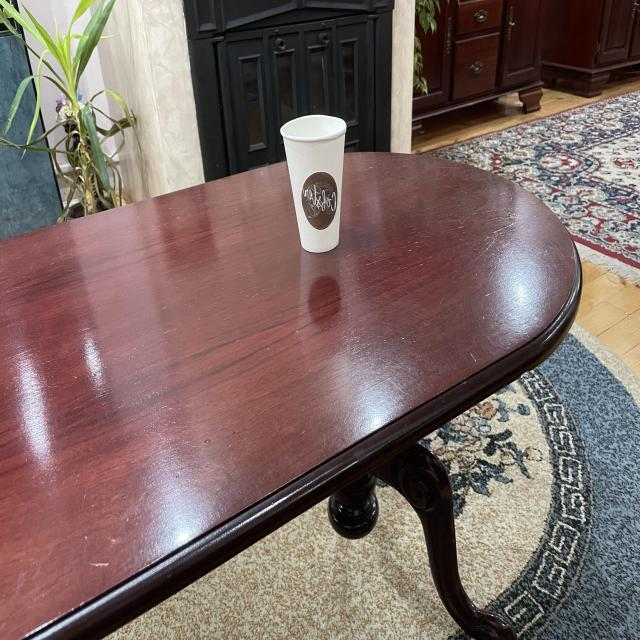big: (277, 106, 354, 256)
